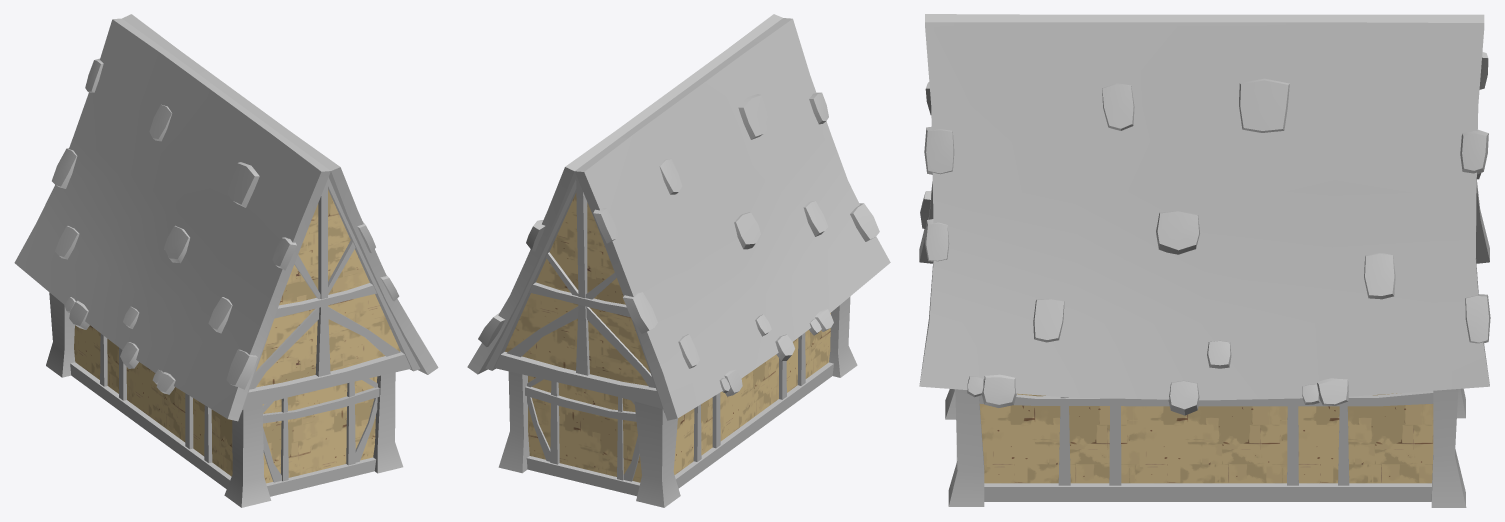
Rendered from SM_BLD_body_v04_02.fbx.
3 views of the same model, side by side, from view 1: azimuth 30°, elevation 25°; view 2: azimuth 150°, elevation 25°; view 3: azimuth 270°, elevation 25° (orthographic). The views are drawn at different scales.
Visible parts, largest first — view 1: SM_BLD_body_v04_02; view 2: SM_BLD_body_v04_02; view 3: SM_BLD_body_v04_02.
Boxes of the visible parts, x1,y1,x2,y2 form: SM_BLD_body_v04_02: (14, 14, 438, 507); SM_BLD_body_v04_02: (467, 14, 890, 507); SM_BLD_body_v04_02: (919, 14, 1490, 507).
Bounding box in the file's own units: 759 × 1078 × 1288.
